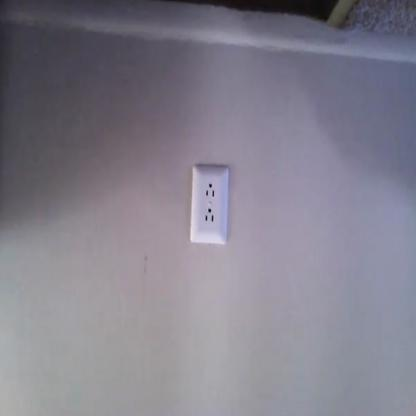OUTLET: (190, 165, 230, 244)
